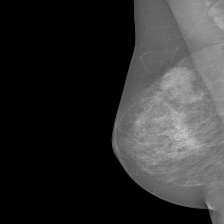Mass_1: (151, 121, 205, 167)
